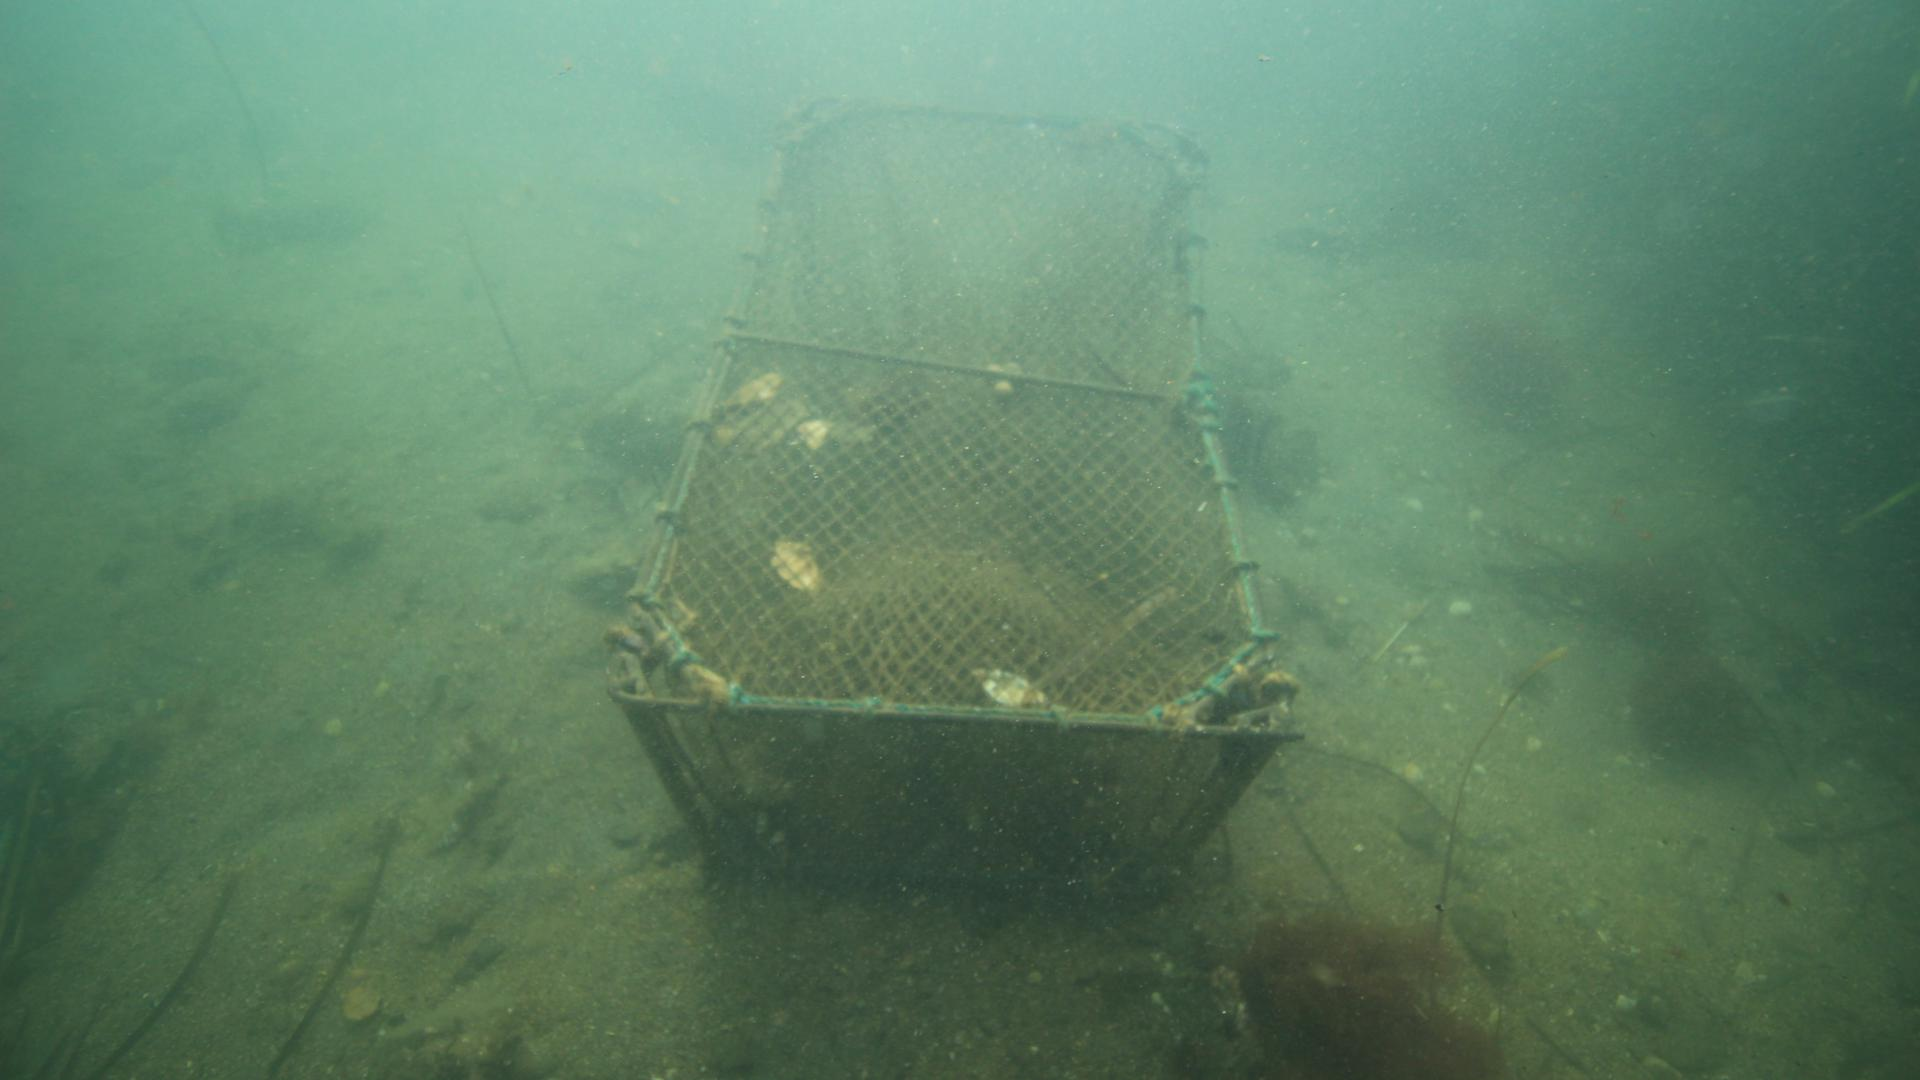rectangular fish trap: (600, 91, 1308, 916)
